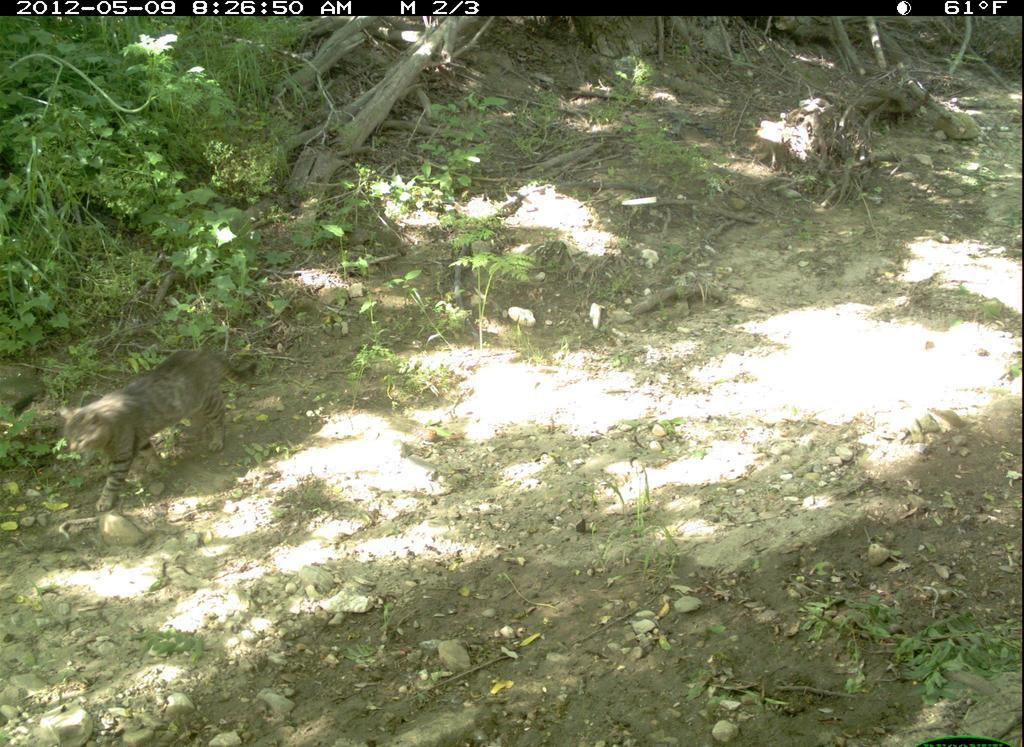cat: (50, 337, 263, 518)
